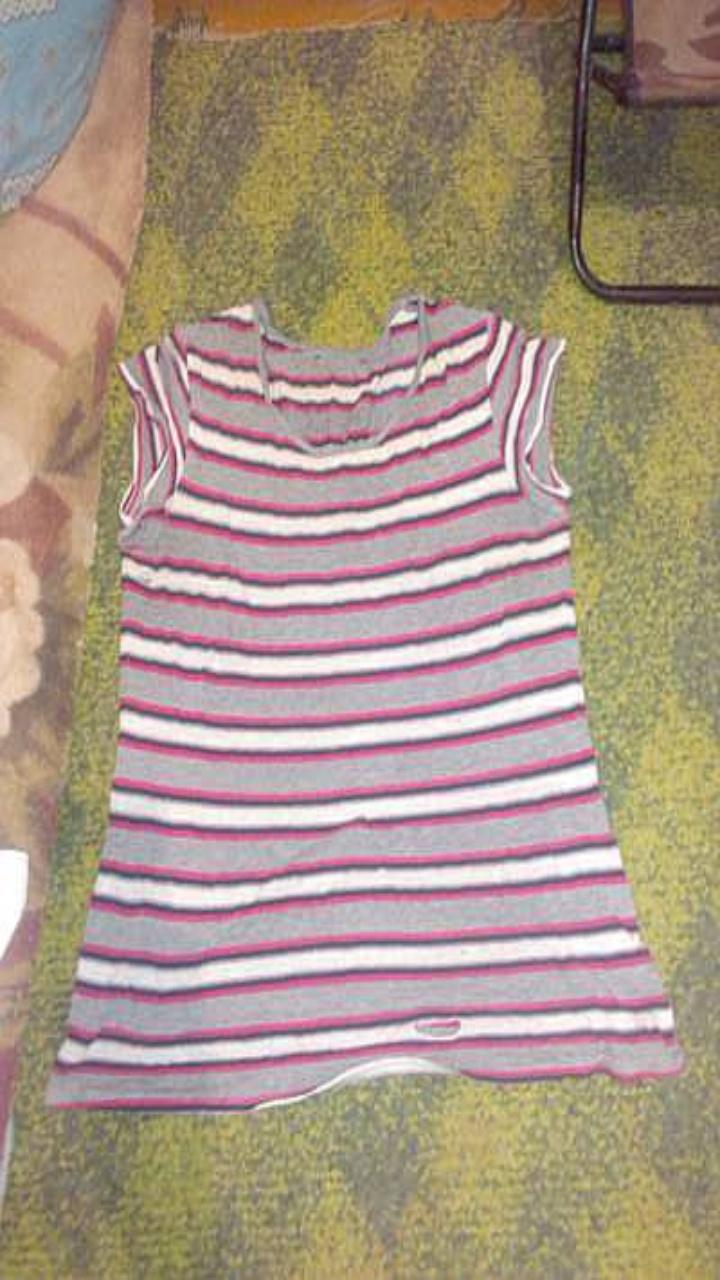Dresses: (48, 293, 683, 1110)
